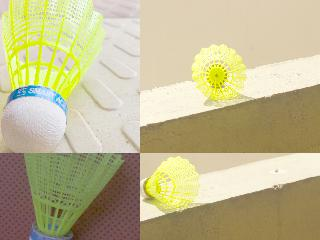shuttlecock: (1, 0, 106, 152), (19, 153, 124, 239), (140, 156, 199, 208), (192, 44, 246, 100)
